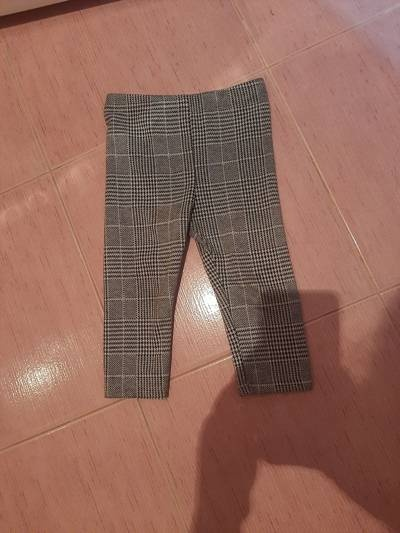Pants: (71, 61, 326, 409)
